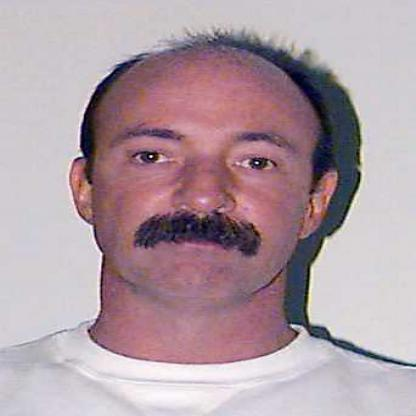face: (89, 45, 322, 309)
